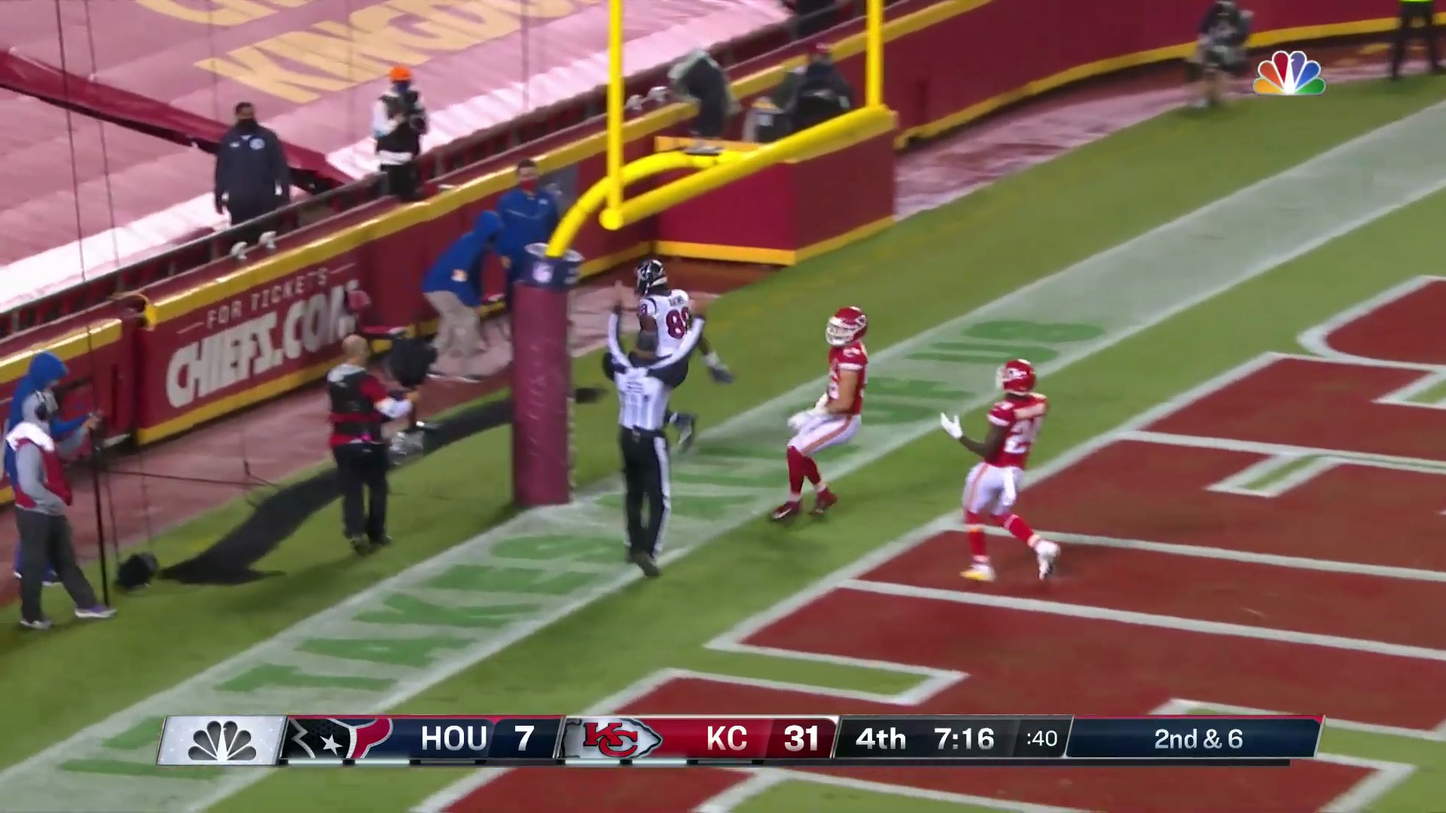Player: (610, 258, 701, 432)
